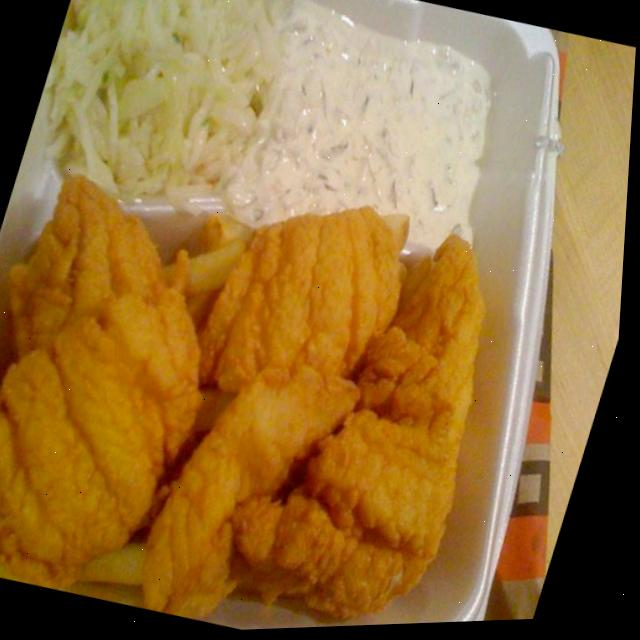炸货点心: (0, 158, 561, 640)
熟制海鲜: (0, 158, 561, 640)
